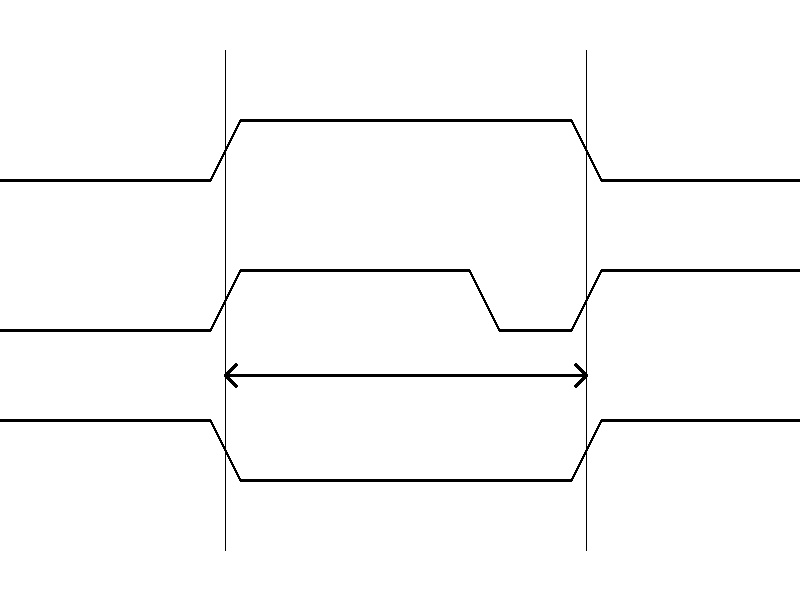double_arrow: (225, 360, 586, 390)
